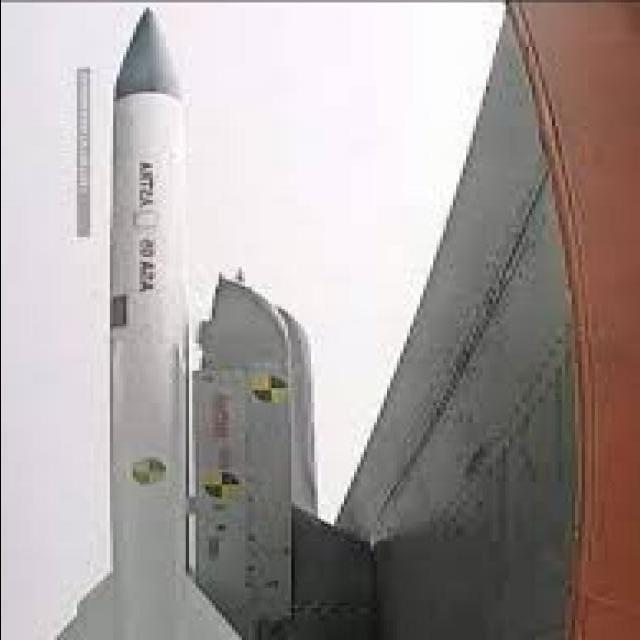Missile: (62, 0, 242, 640), (100, 0, 214, 580)
